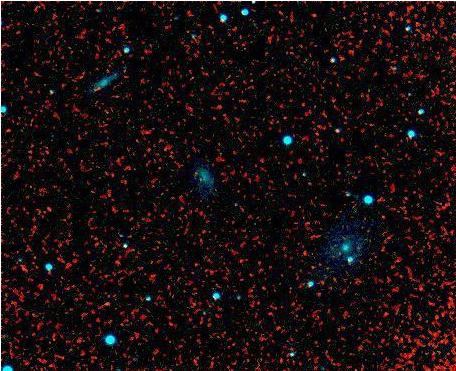star: (91, 289, 121, 319)
